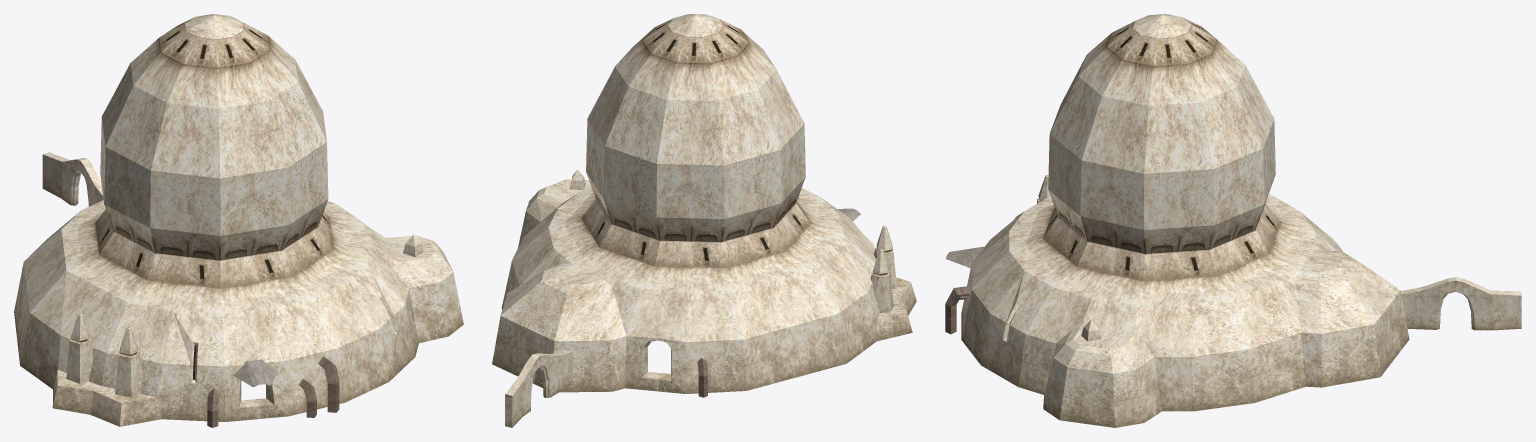
Rendered from thm_tato_watto_junkshop_r0_mesh_l2.fbx.
The picture shows the model from 3 angles, left to right: view 1: azimuth 30°, elevation 25°; view 2: azimuth 150°, elevation 25°; view 3: azimuth 270°, elevation 25°; orthographic projection. The views are drawn at different scales.
Parts seen in each view (by area): view 1: mesh_node; view 2: mesh_node; view 3: mesh_node.
Boxes of the visible parts, box(x1,y1,x2,y2) form: mesh_node: box(14, 14, 463, 427); mesh_node: box(492, 14, 916, 427); mesh_node: box(945, 14, 1521, 427).
Bounding box in the file's own units: 37.7 × 28 × 47.01.
